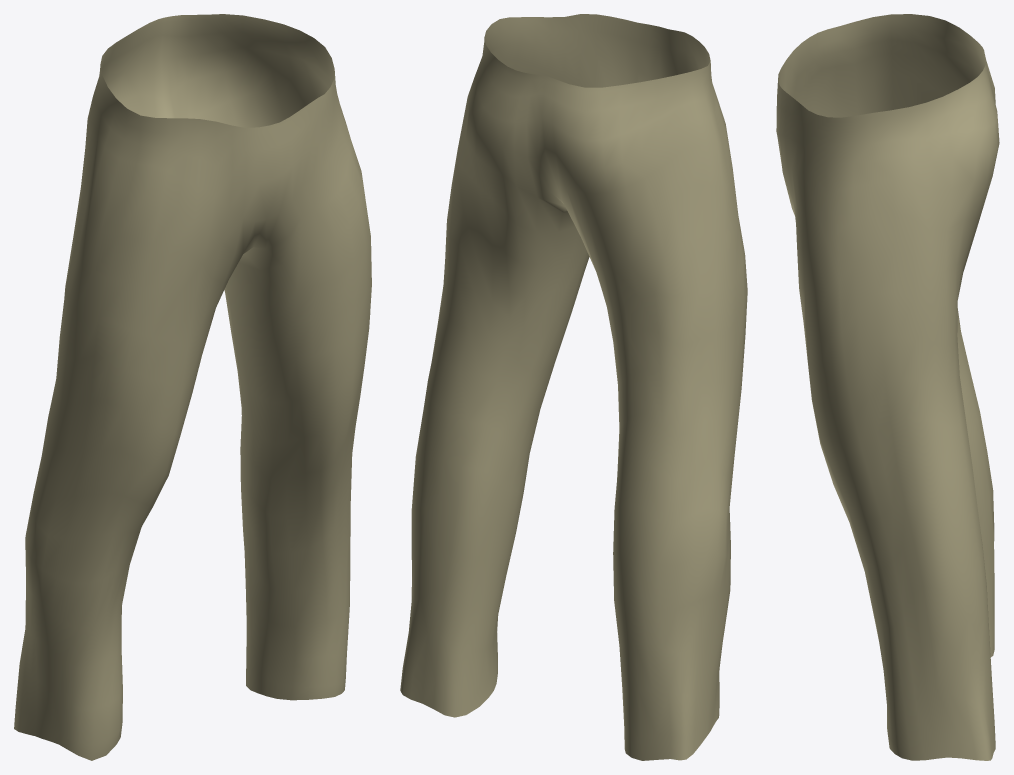
File: pants.glb
3 views of the same model, side by side, from view 1: azimuth 30°, elevation 25°; view 2: azimuth 150°, elevation 25°; view 3: azimuth 270°, elevation 25° (orthographic). The views are drawn at different scales.
Parts seen in each view (by area): view 1: Object_6_n3d; view 2: Object_6_n3d; view 3: Object_6_n3d.
Boxes of the visible parts, x1,y1,x2,y2 form: Object_6_n3d: [14, 14, 371, 760]; Object_6_n3d: [400, 14, 747, 760]; Object_6_n3d: [776, 14, 999, 760].
Size of the model in its own units: 24.32 by 50.43 by 15.69.
